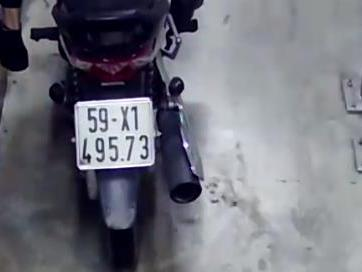num_plate: (75, 98, 154, 170)
